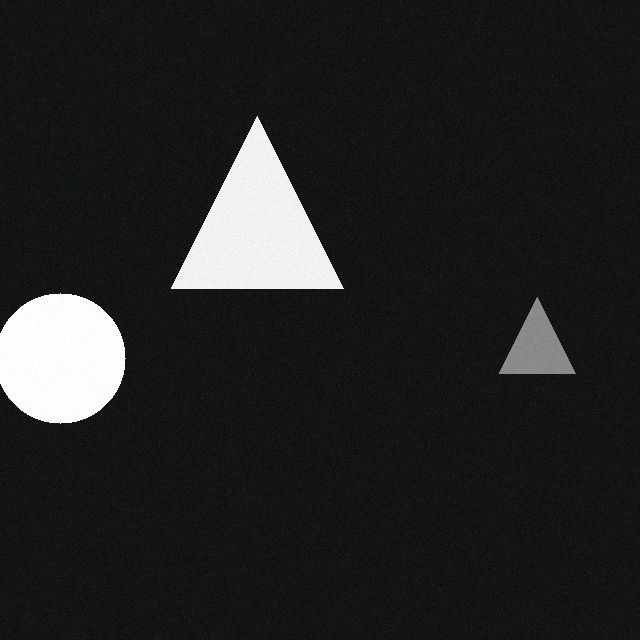circle: (4, 289, 134, 419)
triangle: (180, 112, 352, 284), (508, 293, 584, 369)
